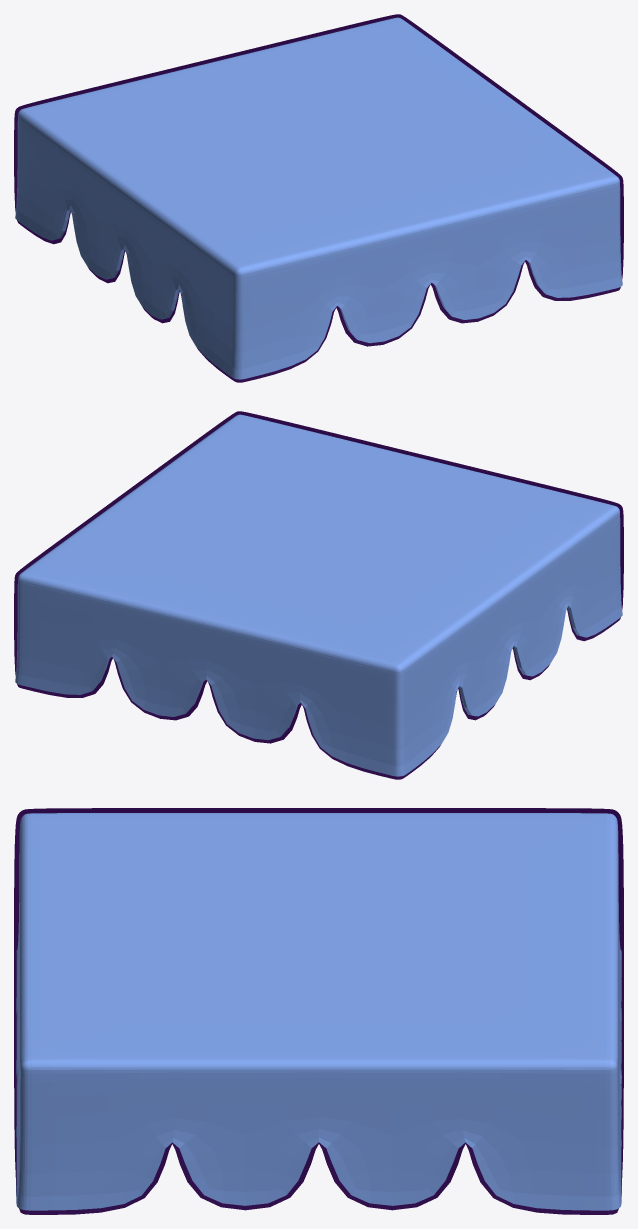
File: quadrado azul.glb
3 views of the same model, one above another, from view 1: azimuth 30°, elevation 25°; view 2: azimuth 150°, elevation 25°; view 3: azimuth 270°, elevation 25° (orthographic). The views are drawn at different scales.
Visible parts, largest first — view 1: Cube.015; view 2: Cube.015; view 3: Cube.015.
Boxes of the visible parts, bbox=[...] form: Cube.015: bbox=[14, 14, 623, 382]; Cube.015: bbox=[14, 411, 623, 779]; Cube.015: bbox=[14, 808, 623, 1214].
Size of the model in its own units: 22.35 by 6.37 by 22.35.
